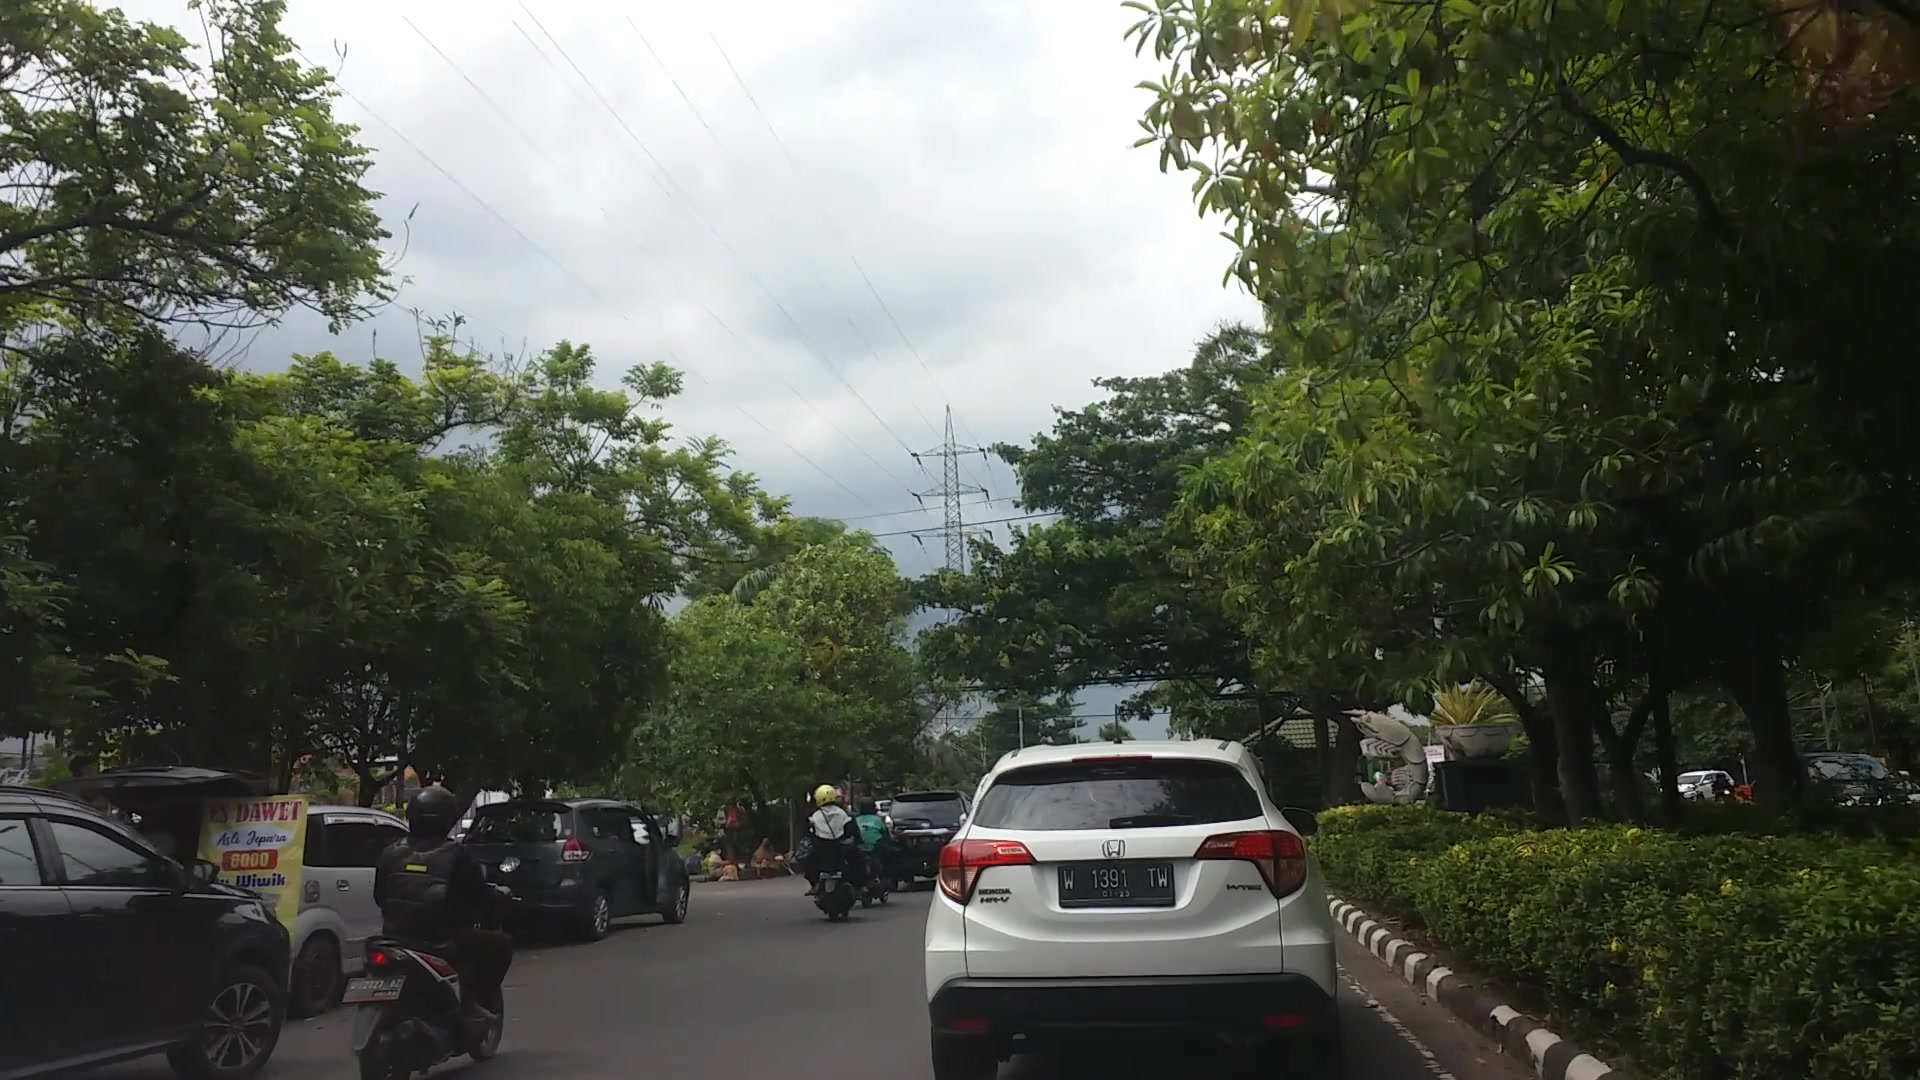plate_positive: (1058, 864, 1174, 907)
